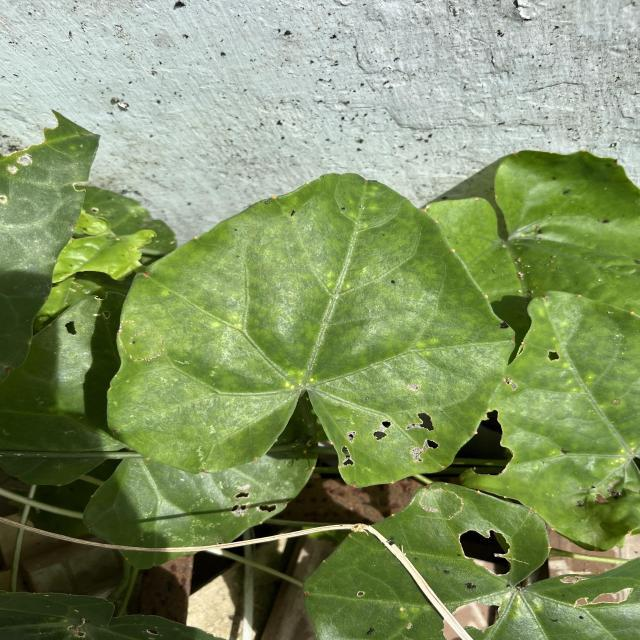Coccinia grandis: (102, 168, 521, 492)
